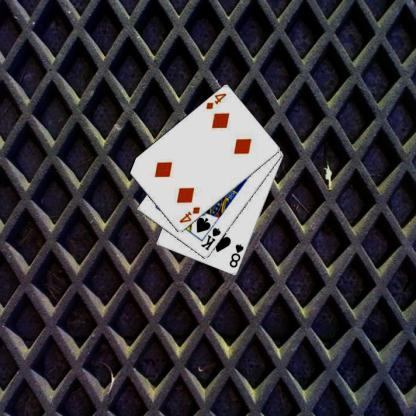4D: (176, 204, 201, 224), (203, 90, 228, 110)
8S: (227, 242, 245, 270)
KS: (199, 225, 222, 252)
